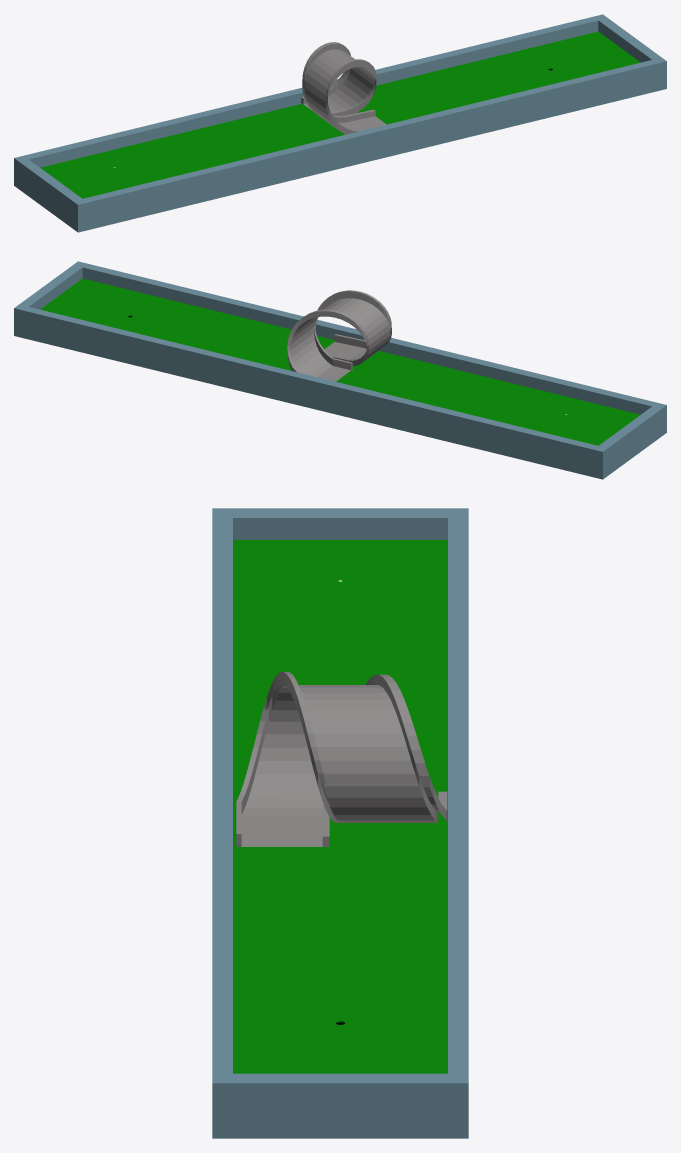
Rendered from loopy2.glb.
The picture shows the model from 3 angles, top to bottom: view 1: azimuth 30°, elevation 25°; view 2: azimuth 150°, elevation 25°; view 3: azimuth 270°, elevation 25°; orthographic projection. The views are drawn at different scales.
Visible parts, largest first — view 1: Border, Grass, Loop; view 2: Border, Grass, Loop; view 3: Grass, Border, Loop.
Part boxes in pixels (x1=…): Border: x1=14, y1=14, x2=666, y2=232; Grass: x1=40, y1=31, x2=640, y2=198; Loop: x1=301, y1=42, x2=386, y2=134; Border: x1=14, y1=261, x2=666, y2=479; Grass: x1=40, y1=278, x2=640, y2=445; Loop: x1=287, y1=290, x2=391, y2=381; Grass: x1=233, y1=540, x2=447, y2=1073; Border: x1=212, y1=508, x2=468, y2=1138; Loop: x1=236, y1=672, x2=447, y2=846.
Size of the model in its own units: 15.41 by 2.13 by 2.91.
